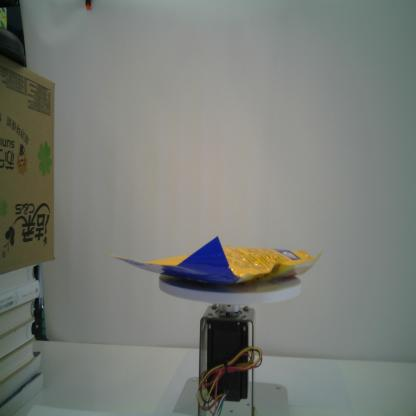Dried Fruit: (108, 236, 324, 286)
